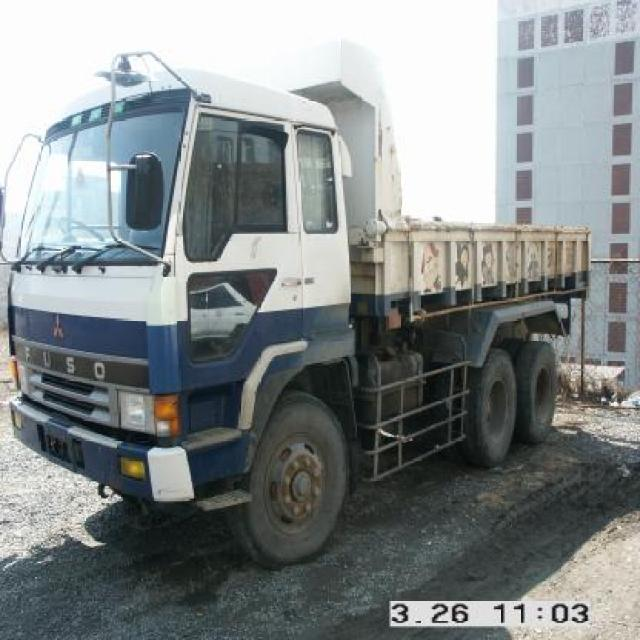truck: (1, 75, 595, 572)
